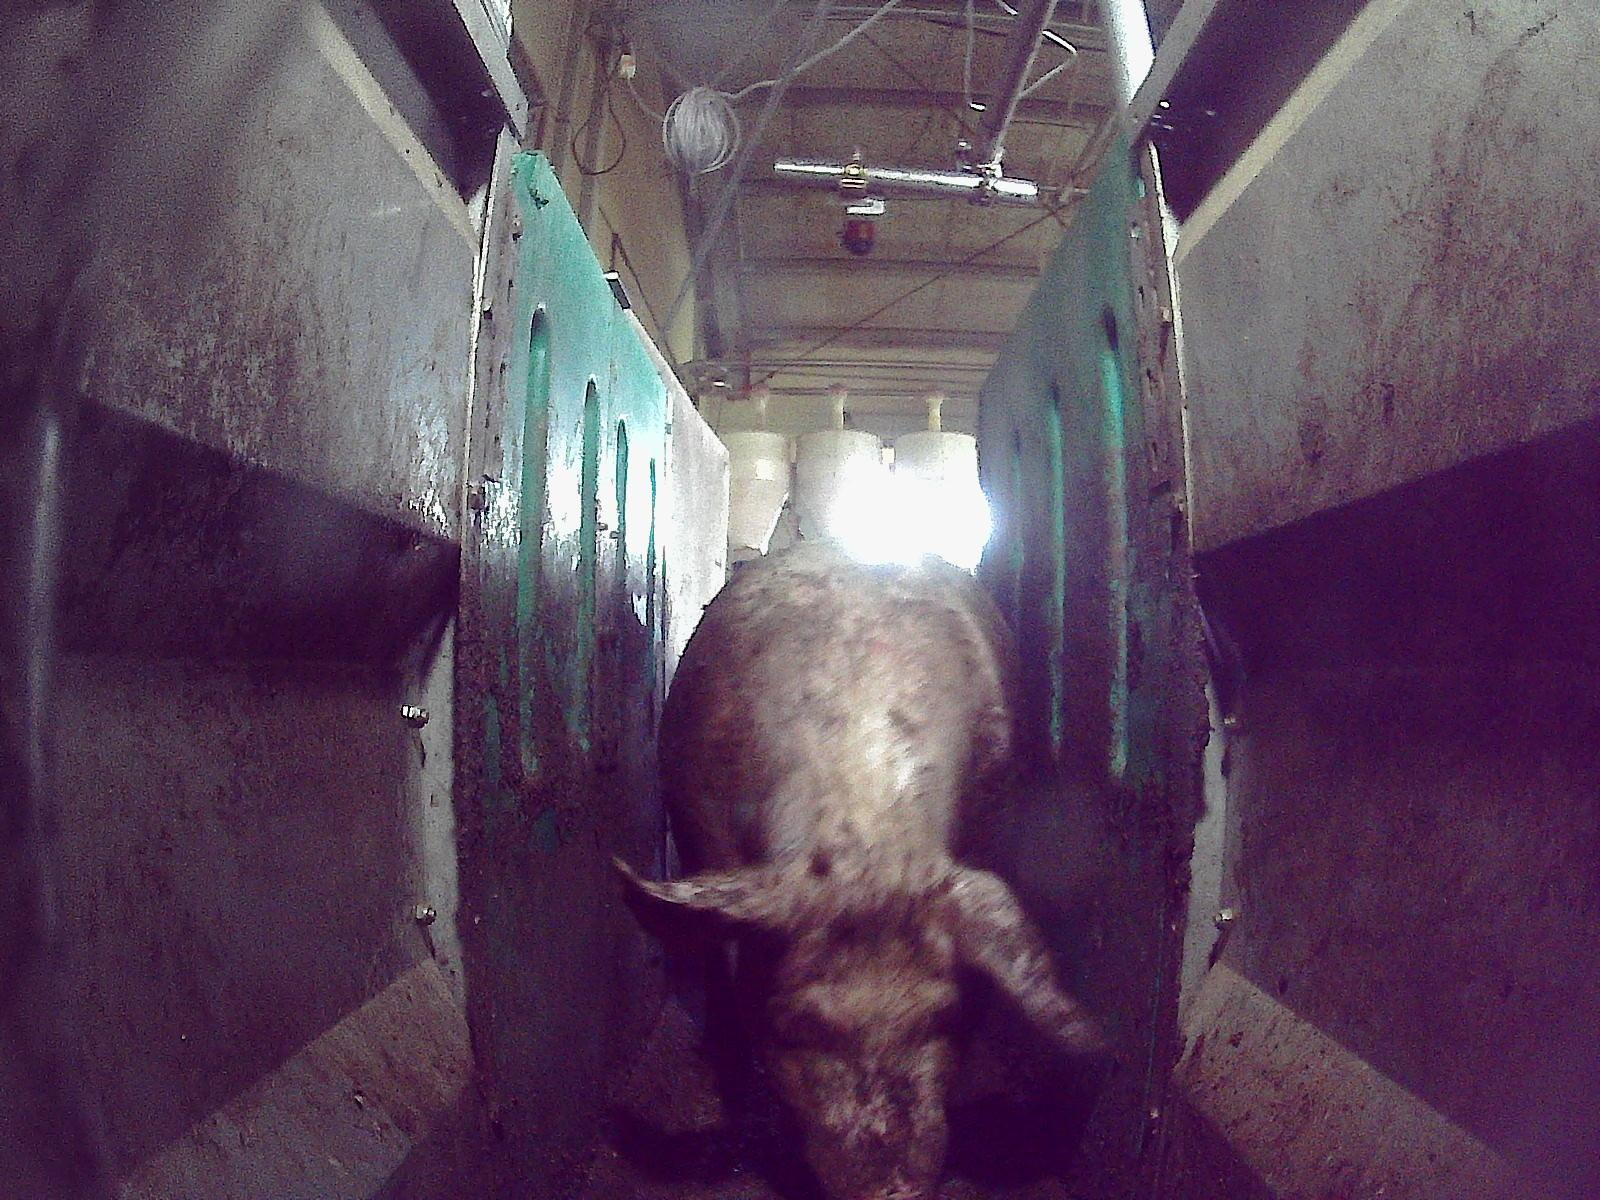Face: (743, 851, 973, 1199)
